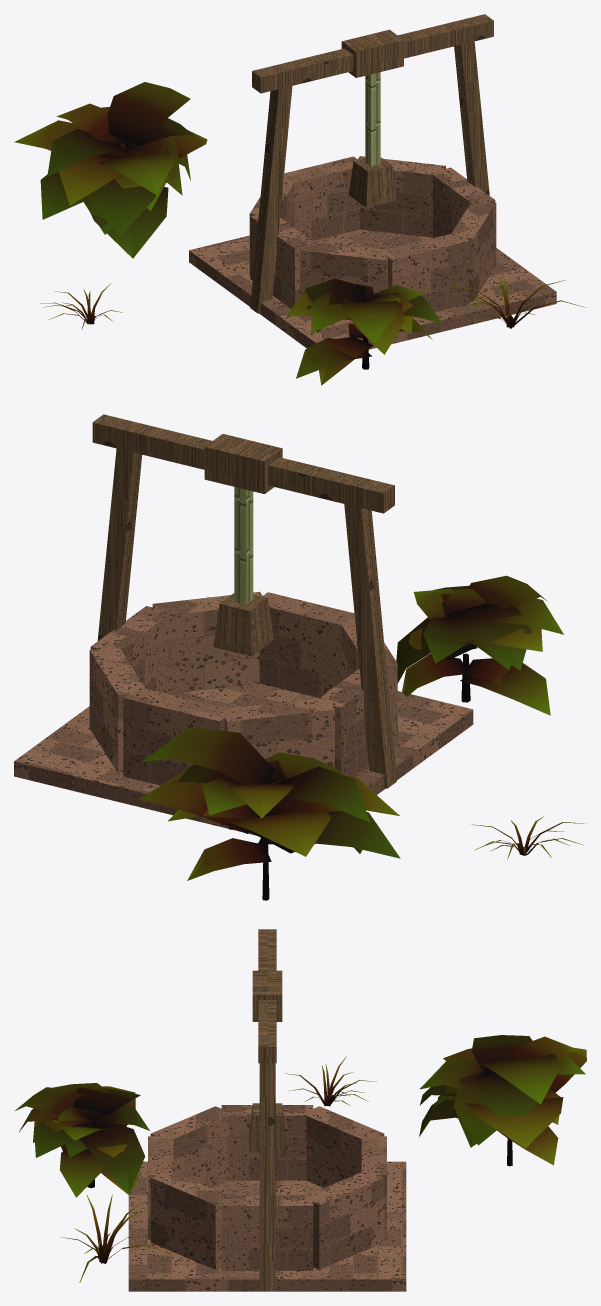
File: village_well_01.glb
3 renders of one model, top to bottom at view 1: azimuth 30°, elevation 25°; view 2: azimuth 150°, elevation 25°; view 3: azimuth 270°, elevation 25°, orthographic. The views are drawn at different scales.
Parts seen in each view (by area): view 1: village_well_01, village_well_01_veg_00_bush_c, village_well_01_veg_01_bush_a, village_well_01_veg_02_grass_tuft_c, village_well_01_veg_03_grass_tuft_b; view 2: village_well_01, village_well_01_veg_00_bush_c, village_well_01_veg_01_bush_a, village_well_01_veg_03_grass_tuft_b; view 3: village_well_01, village_well_01_veg_00_bush_c, village_well_01_veg_01_bush_a, village_well_01_veg_02_grass_tuft_c, village_well_01_veg_03_grass_tuft_b.
Part boxes in pixels (x1=…): village_well_01: x1=189, y1=14, x2=556, y2=349; village_well_01_veg_00_bush_c: x1=14, y1=82, x2=207, y2=258; village_well_01_veg_01_bush_a: x1=286, y1=278, x2=442, y2=385; village_well_01_veg_02_grass_tuft_c: x1=445, y1=277, x2=586, y2=328; village_well_01_veg_03_grass_tuft_b: x1=40, y1=283, x2=122, y2=329; village_well_01: x1=14, y1=414, x2=473, y2=835; village_well_01_veg_00_bush_c: x1=138, y1=727, x2=400, y2=900; village_well_01_veg_01_bush_a: x1=396, y1=575, x2=563, y2=715; village_well_01_veg_03_grass_tuft_b: x1=470, y1=816, x2=586, y2=859; village_well_01: x1=128, y1=929, x2=406, y2=1291; village_well_01_veg_00_bush_c: x1=419, y1=1035, x2=586, y2=1166; village_well_01_veg_01_bush_a: x1=15, y1=1083, x2=149, y2=1197; village_well_01_veg_02_grass_tuft_c: x1=60, y1=1194, x2=170, y2=1282; village_well_01_veg_03_grass_tuft_b: x1=285, y1=1056, x2=376, y2=1106.
Size of the model in its own units: 4.4 by 2.41 by 5.
Materials: 7 (7 with a texture image).
